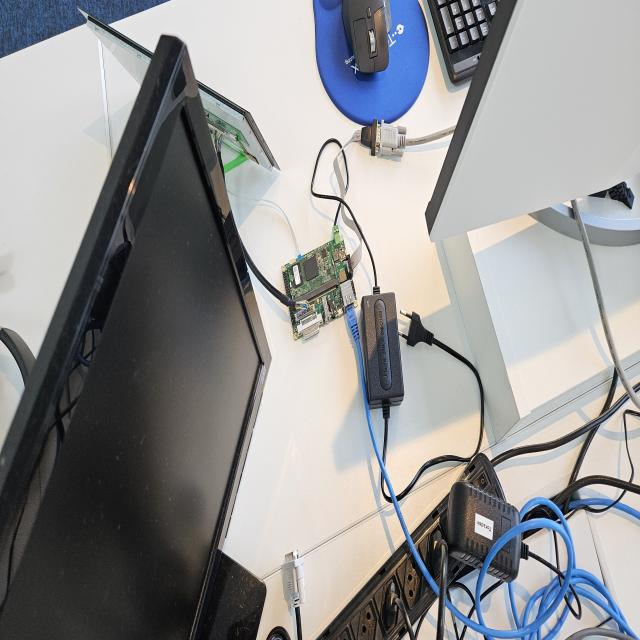som: (283, 247, 345, 301)
